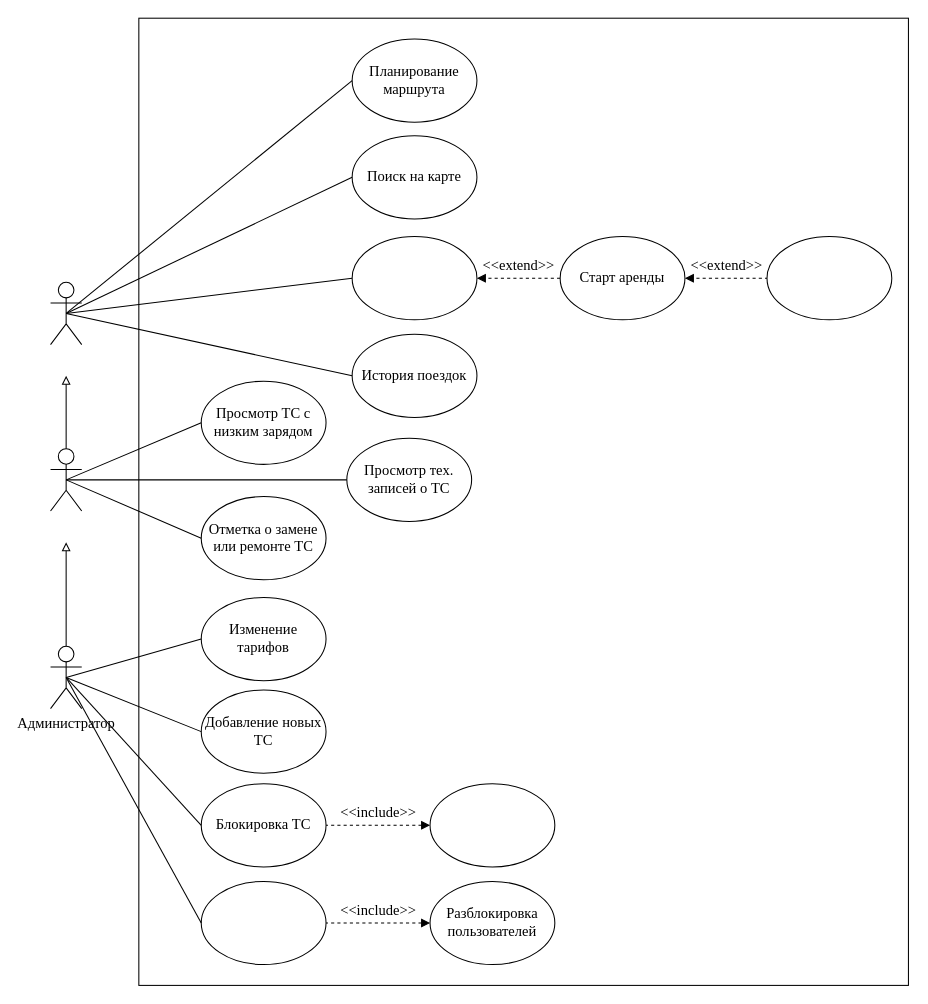
This 928x1004 diagram has some shape labels left out. Each missing label, with the box of its shape:
Блокировка пользователей: (200, 880, 326, 965)
Окончание аренды: (766, 236, 892, 320)
Пользователь: (50, 281, 82, 345)
Привязка карты: (351, 236, 477, 320)
Разблокировка ТС: (429, 783, 555, 867)
Сотрудник: (50, 448, 82, 511)
